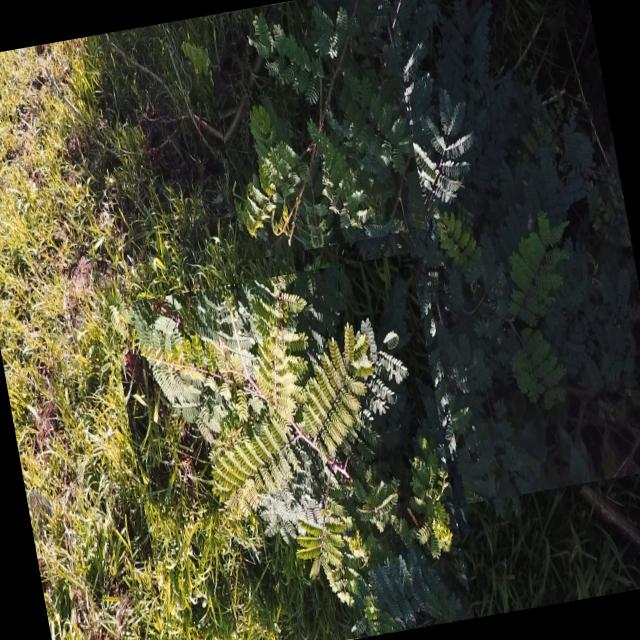Mysore-Thorn-Weed: (108, 252, 473, 640), (375, 0, 640, 504), (201, 0, 427, 260)
